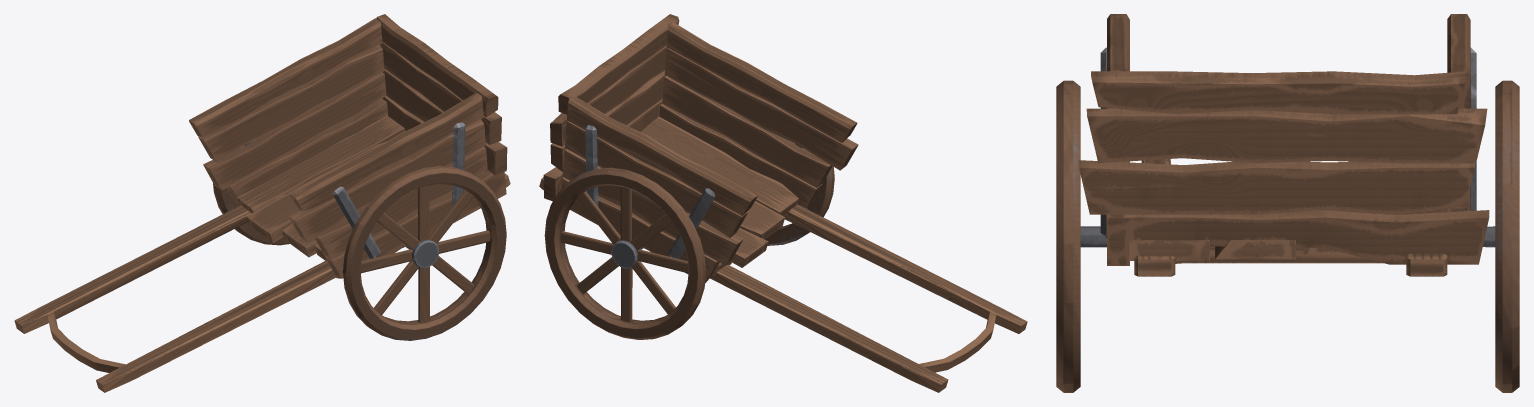
File: Wheelbarrow_v03.fbx
3 views of the same model, side by side, from view 1: azimuth 30°, elevation 25°; view 2: azimuth 150°, elevation 25°; view 3: azimuth 270°, elevation 25° (orthographic). The views are drawn at different scales.
Visible parts, largest first — view 1: Wood, Wheels, Wood02, Metal; view 2: Wood, Wheels, Wood02, Metal; view 3: Wood, Wheels, Wood02, Metal.
Part boxes in pixels (x1,y1,x2,y2): Wood: (189, 14, 507, 278); Wheels: (213, 166, 506, 340); Wood02: (14, 173, 510, 392); Metal: (244, 122, 465, 258); Wood: (543, 14, 858, 283); Wheels: (544, 166, 834, 339); Wood02: (539, 177, 1027, 392); Metal: (585, 125, 802, 258); Wood: (1078, 14, 1489, 265); Wheels: (1056, 80, 1519, 392); Wood02: (1134, 159, 1447, 276); Metal: (1100, 47, 1476, 237).
Bounding box in the file's own units: 200 × 102 × 117.
Materials: 4 (4 with a texture image).
